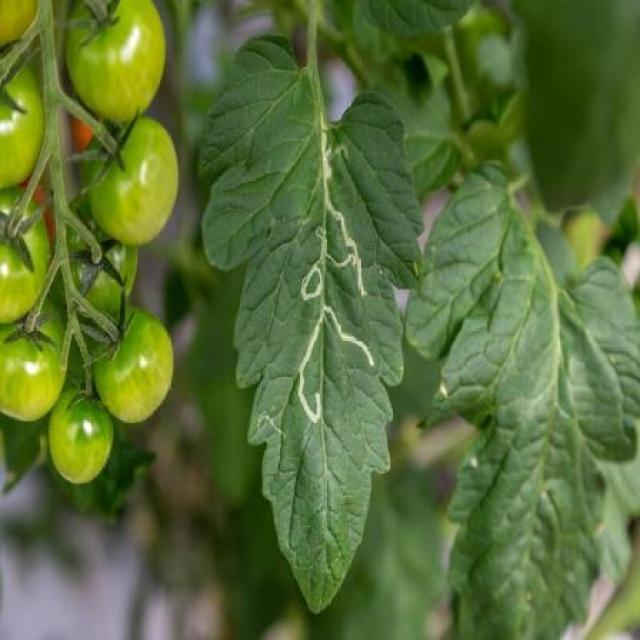Leaf Miner: (200, 28, 426, 623)
